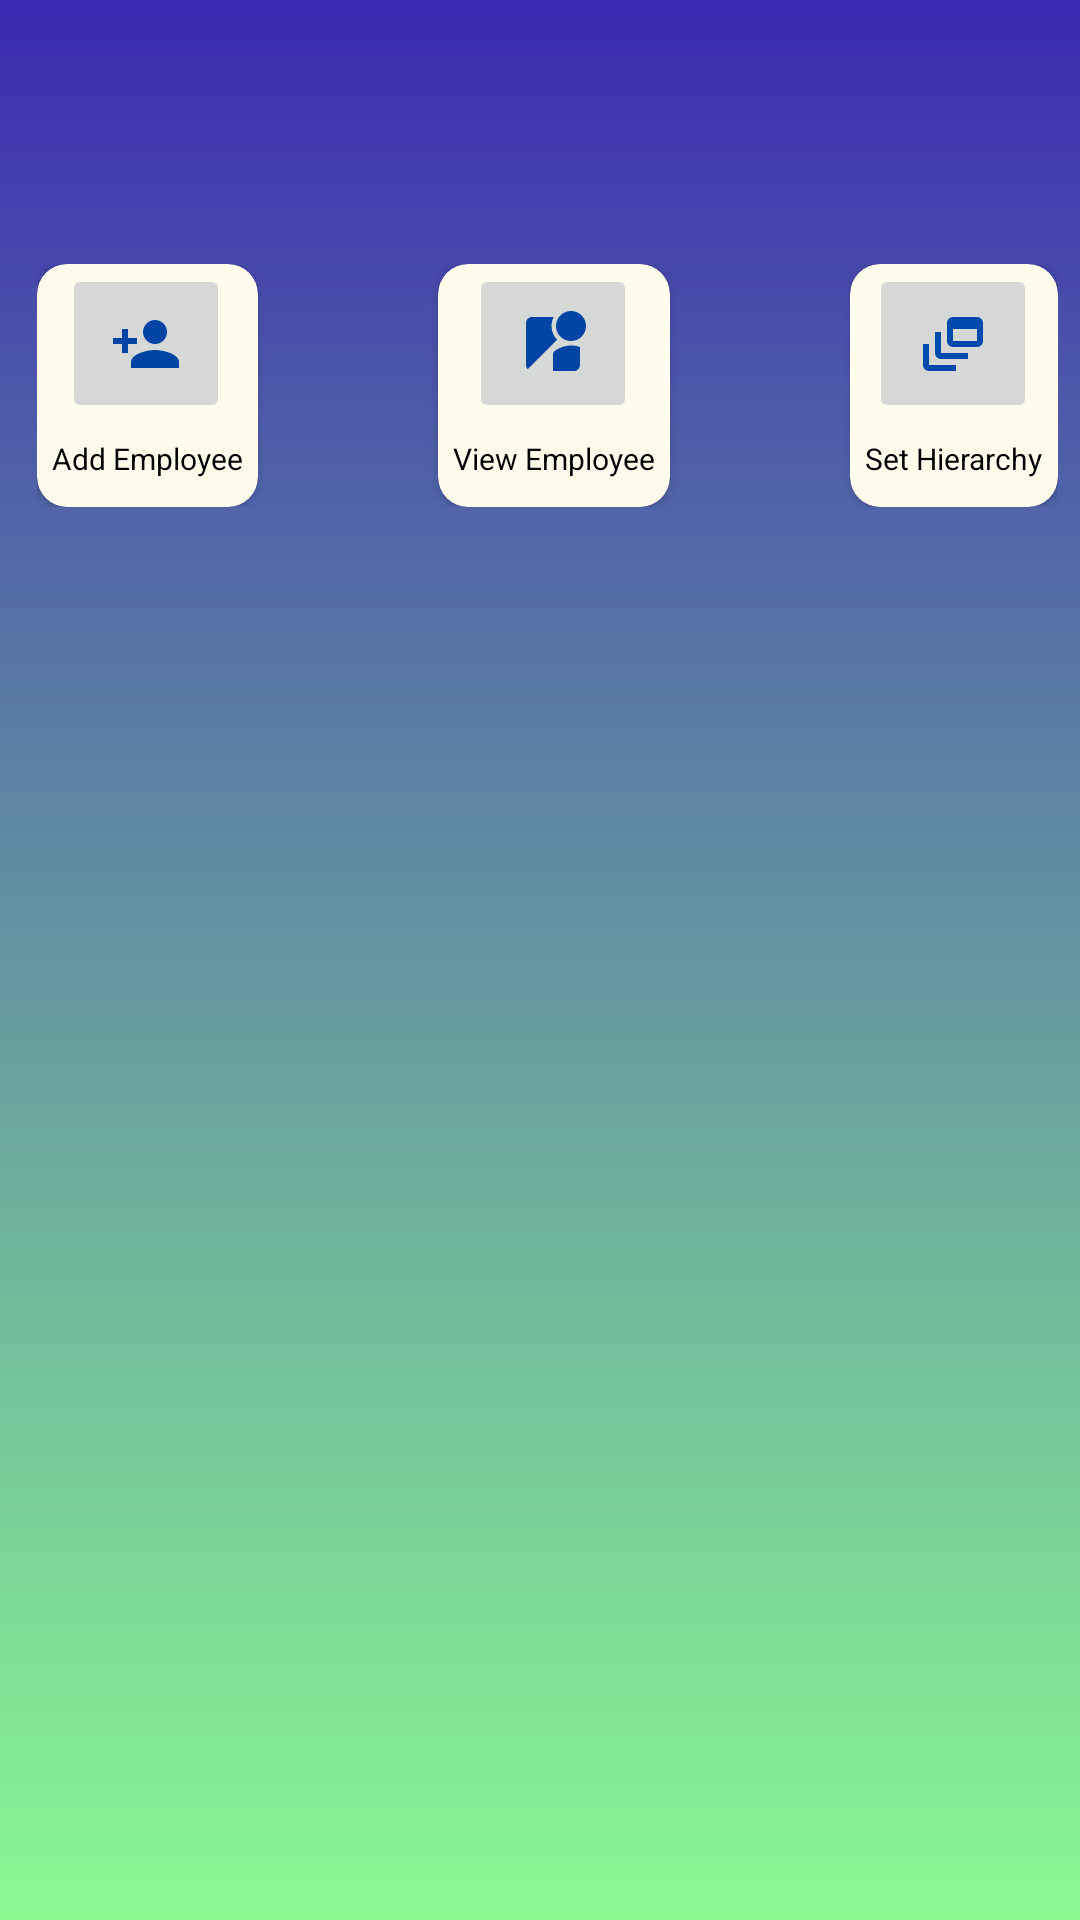

Icons on this 1080px×1920px Android screen, each with its box as (x1,y1,x2,y2):
dynamic feed: (881,282,1025,405)
